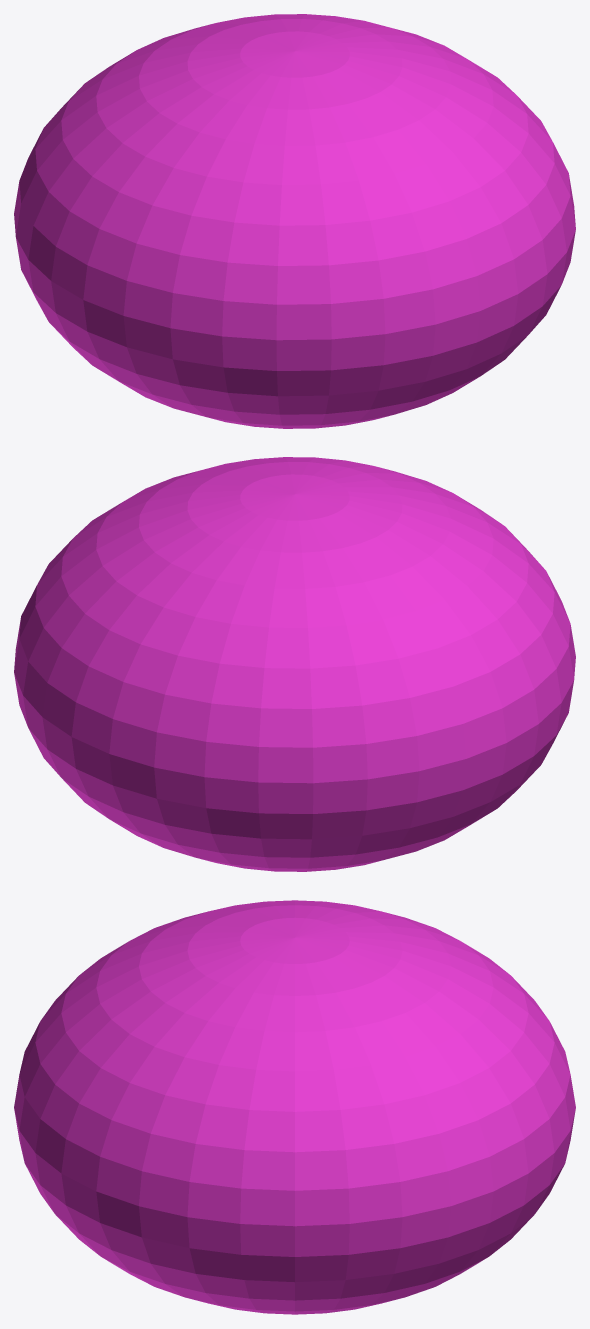
Rendered from morphTarget.glb.
3 views of the same model, one above another, from view 1: azimuth 30°, elevation 25°; view 2: azimuth 150°, elevation 25°; view 3: azimuth 270°, elevation 25° (orthographic).
Parts seen in each view (by area): view 1: Sphere; view 2: Sphere; view 3: Sphere.
Boxes of the visible parts, x1,y1,x2,y2 form: Sphere: (14, 14, 575, 428); Sphere: (14, 457, 575, 871); Sphere: (14, 900, 575, 1314).
Size of the model in its own units: 2.4 by 1.6 by 2.4.
